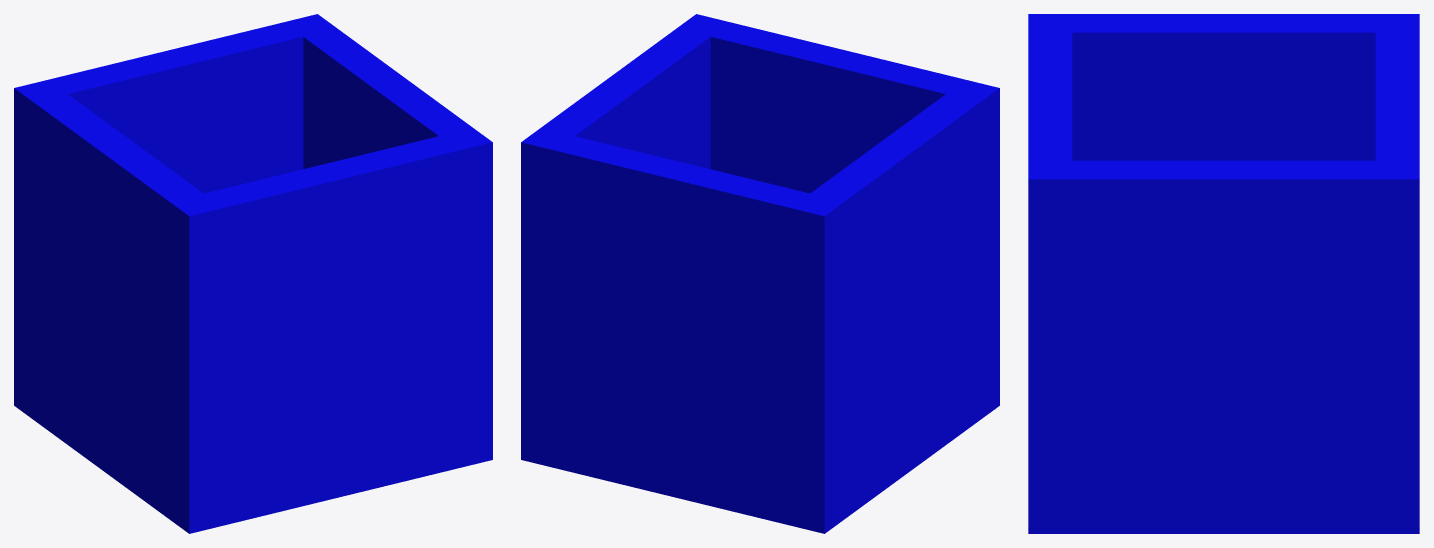
The model's file is BottomCube.dae.
The picture shows the model from 3 angles, left to right: view 1: azimuth 30°, elevation 25°; view 2: azimuth 150°, elevation 25°; view 3: azimuth 270°, elevation 25°; orthographic projection. The views are drawn at different scales.
Parts seen in each view (by area): view 1: node; view 2: node; view 3: node.
Part boxes in pixels (bbox=[...]): node: bbox=[14, 14, 492, 533]; node: bbox=[521, 14, 999, 533]; node: bbox=[1028, 14, 1419, 533].
Size of the model in its own units: 0.04 by 0.04 by 0.04.
